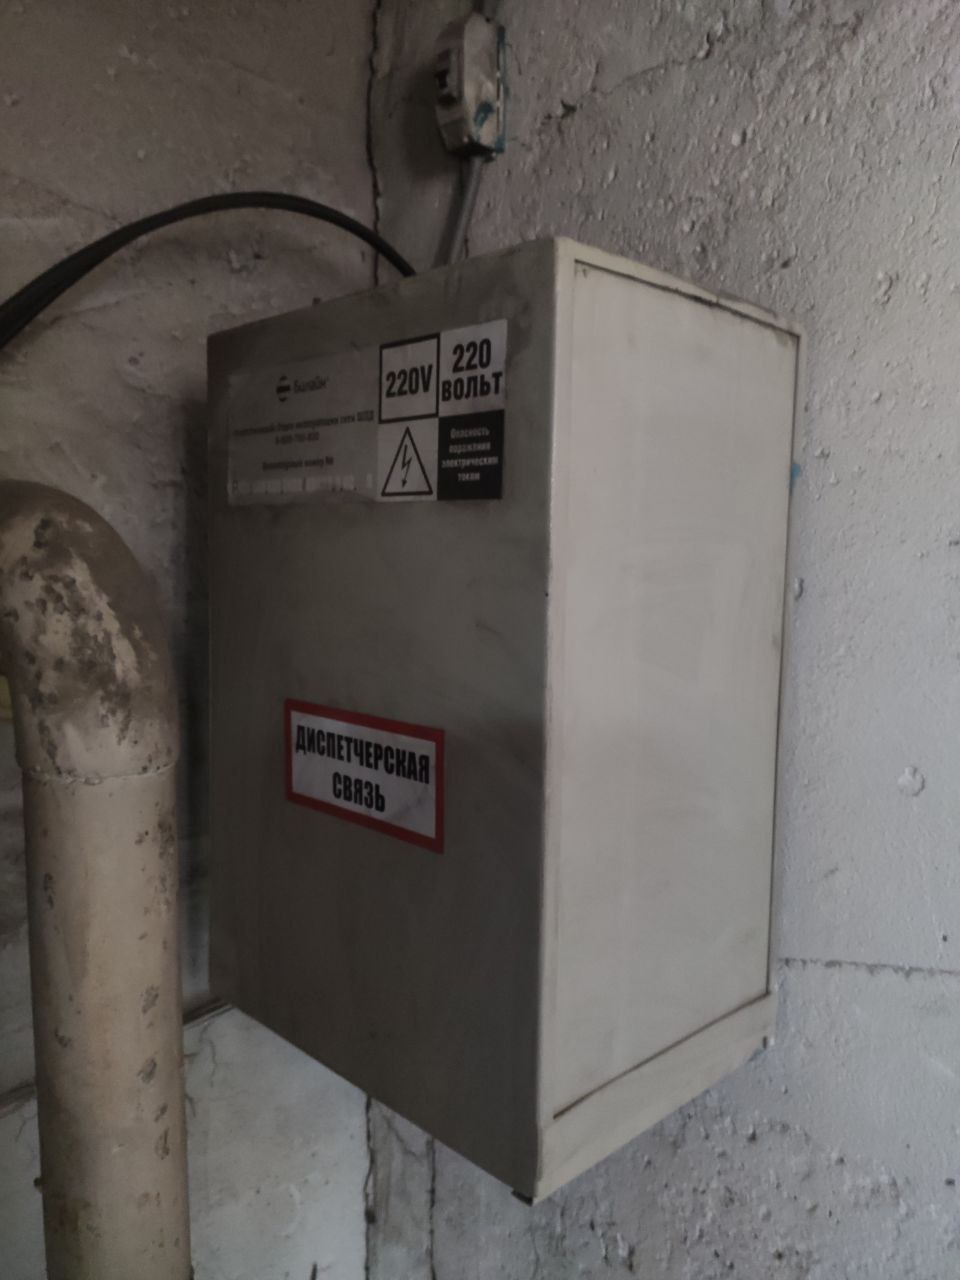sv-5: (182, 217, 821, 1217)
